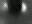person: (22, 3, 28, 15), (4, 4, 9, 14)
